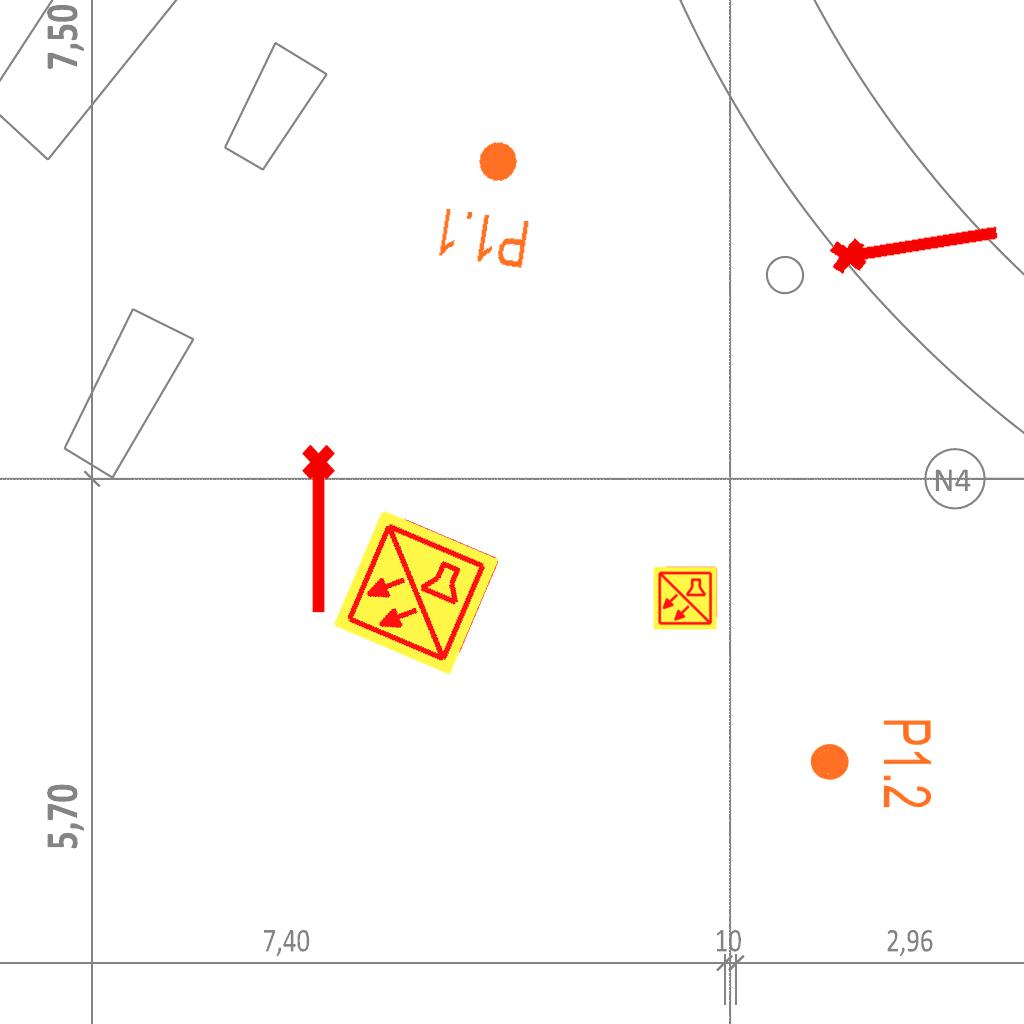ASR_Ansaugoeffnung: (824, 206, 1006, 280), (298, 442, 344, 618)
Downlight_LED_Einbauleuchten_Flur: (807, 717, 935, 810)
Downlight_LED_Einbauleuchten_Flur_2: (432, 131, 545, 273)
OKW_Multisensormelder_(Kombination_optischer_Rauch-Kahlenmonoxid_Waerme-Melder): (329, 505, 503, 679), (652, 565, 718, 631)
